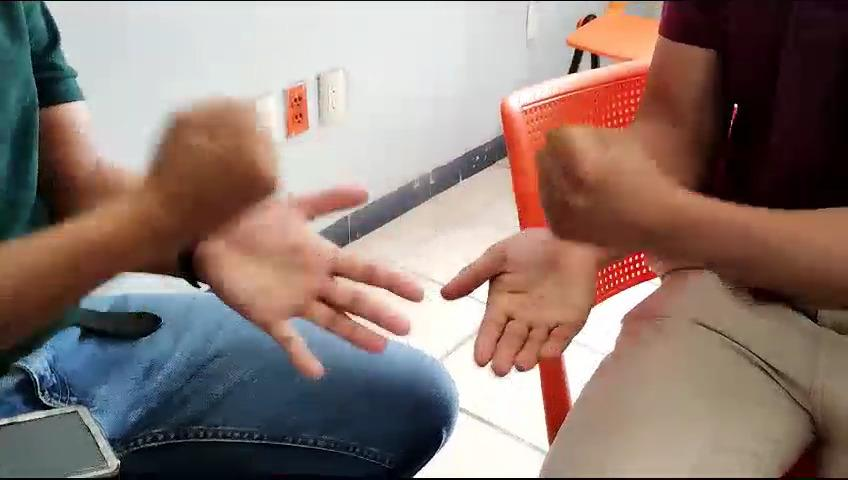Paper: (428, 211, 612, 386)
Stone: (113, 79, 312, 253), (523, 110, 674, 266)
